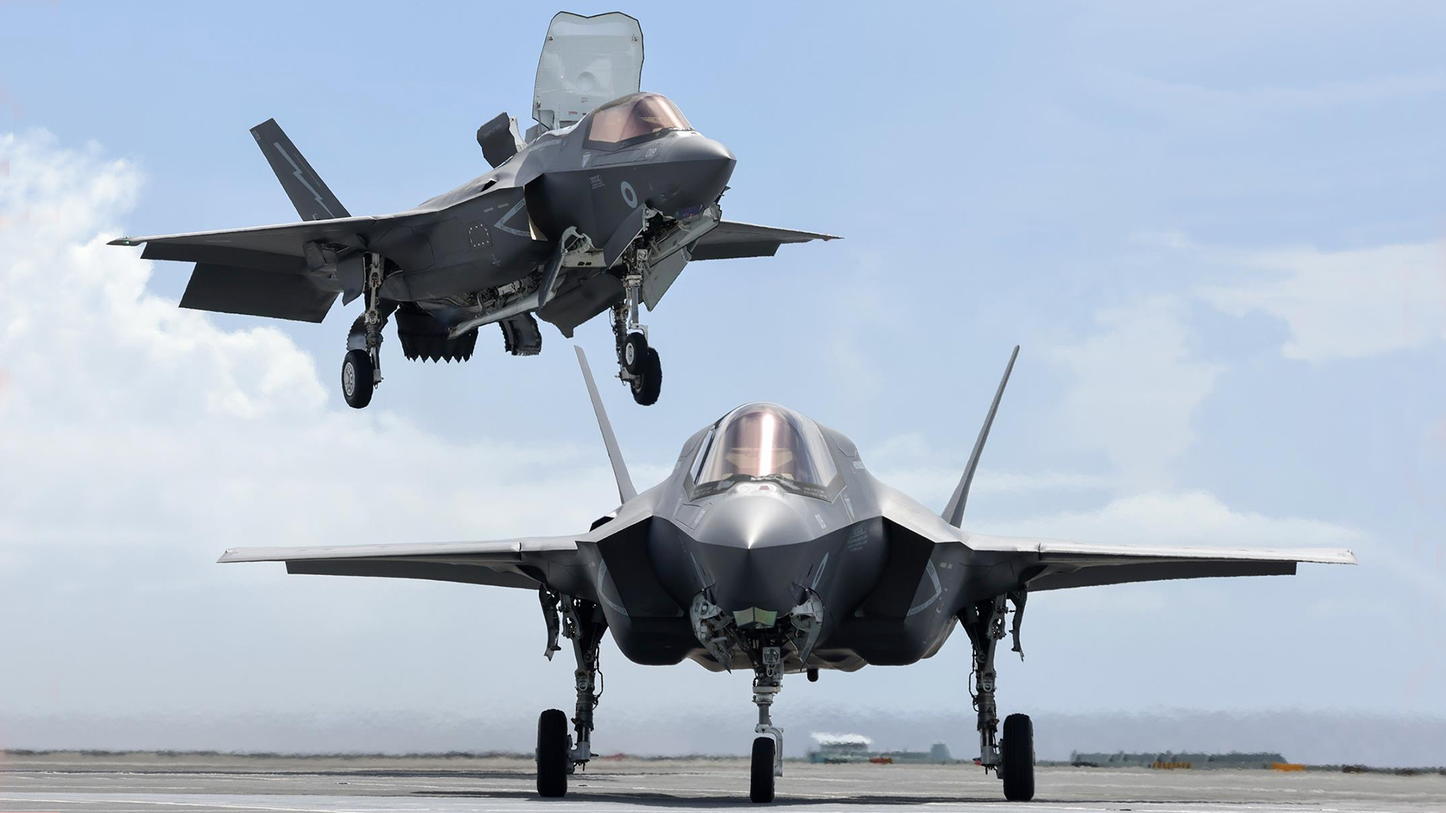F35: (214, 337, 1360, 806), (77, 6, 849, 404)
